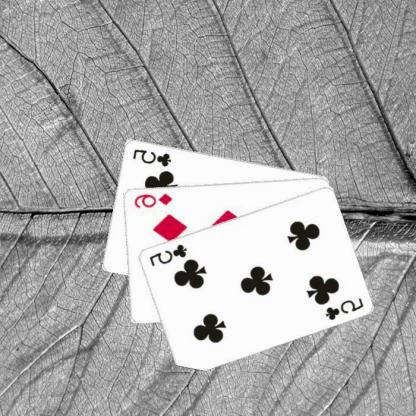5C: (148, 242, 190, 268), (324, 295, 366, 321), (132, 146, 174, 168)
6D: (133, 191, 175, 209)
